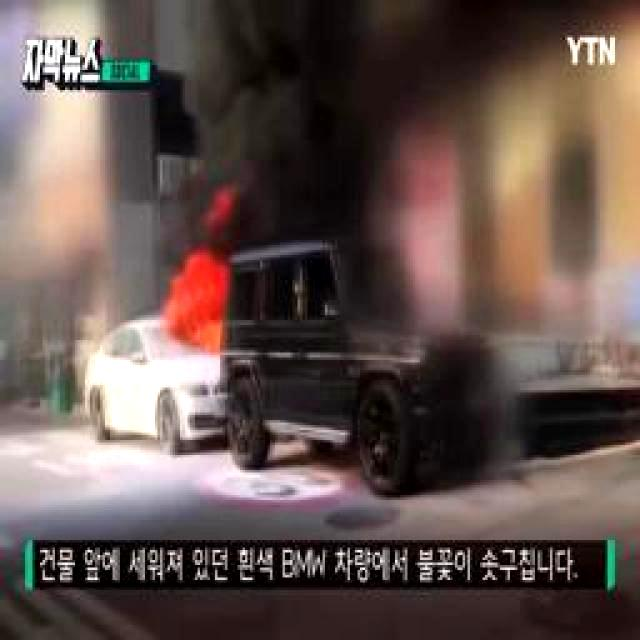Fire: (180, 288, 219, 352)
Smoke: (176, 0, 329, 264)
